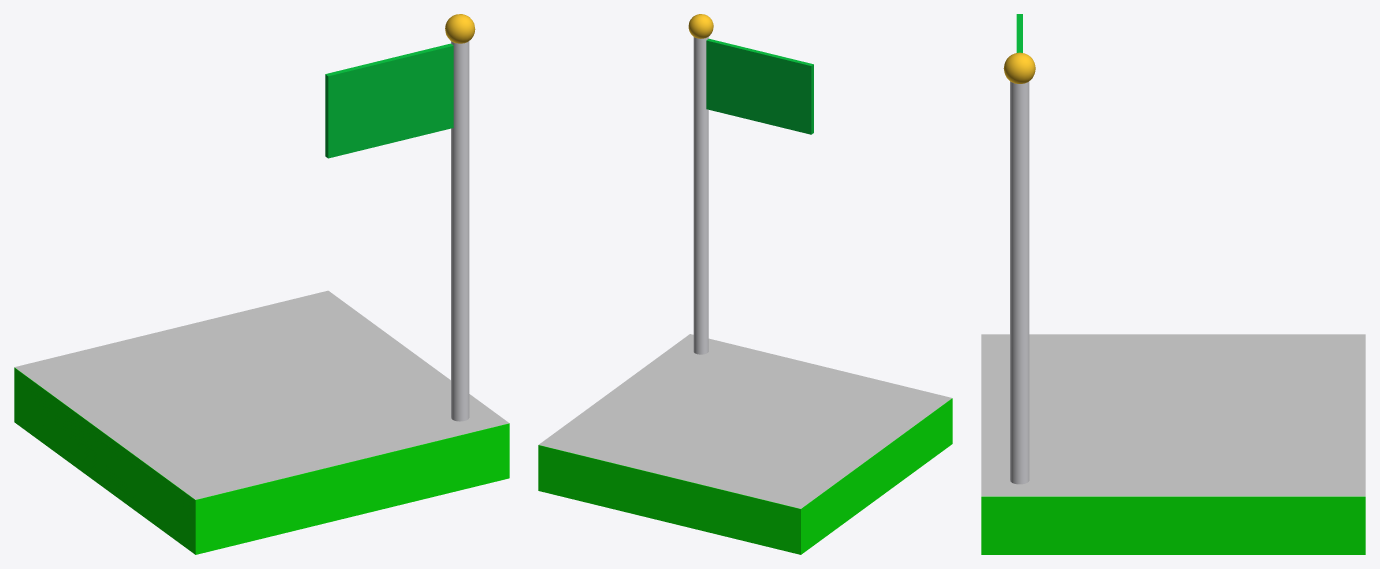
The model's file is checkpoint.obj.
The picture shows the model from 3 angles, left to right: view 1: azimuth 30°, elevation 25°; view 2: azimuth 150°, elevation 25°; view 3: azimuth 270°, elevation 25°; orthographic projection. The views are drawn at different scales.
Parts seen in each view (by area): view 1: Pad_Decal, Pad, Flag, Pole, Ball; view 2: Pad_Decal, Pad, Flag, Pole, Ball; view 3: Pad_Decal, Pad, Pole, Ball.
Boxes of the visible parts, left/top/right/bottom form: Pad_Decal: left=14, top=290, right=509, bottom=499; Pad: left=14, top=367, right=509, bottom=554; Flag: left=325, top=43, right=453, bottom=158; Pole: left=451, top=41, right=469, bottom=421; Ball: left=445, top=14, right=475, bottom=43; Pad_Decal: left=539, top=334, right=951, bottom=508; Pad: left=538, top=398, right=952, bottom=554; Flag: left=706, top=38, right=813, bottom=134; Pole: left=693, top=37, right=708, bottom=354; Ball: left=688, top=14, right=713, bottom=38; Pad_Decal: left=981, top=334, right=1365, bottom=496; Pad: left=981, top=496, right=1365, bottom=554; Pole: left=1010, top=81, right=1029, bottom=484; Ball: left=1003, top=52, right=1035, bottom=83.
Bounding box in the file's own units: 6 × 8.35 × 6.
